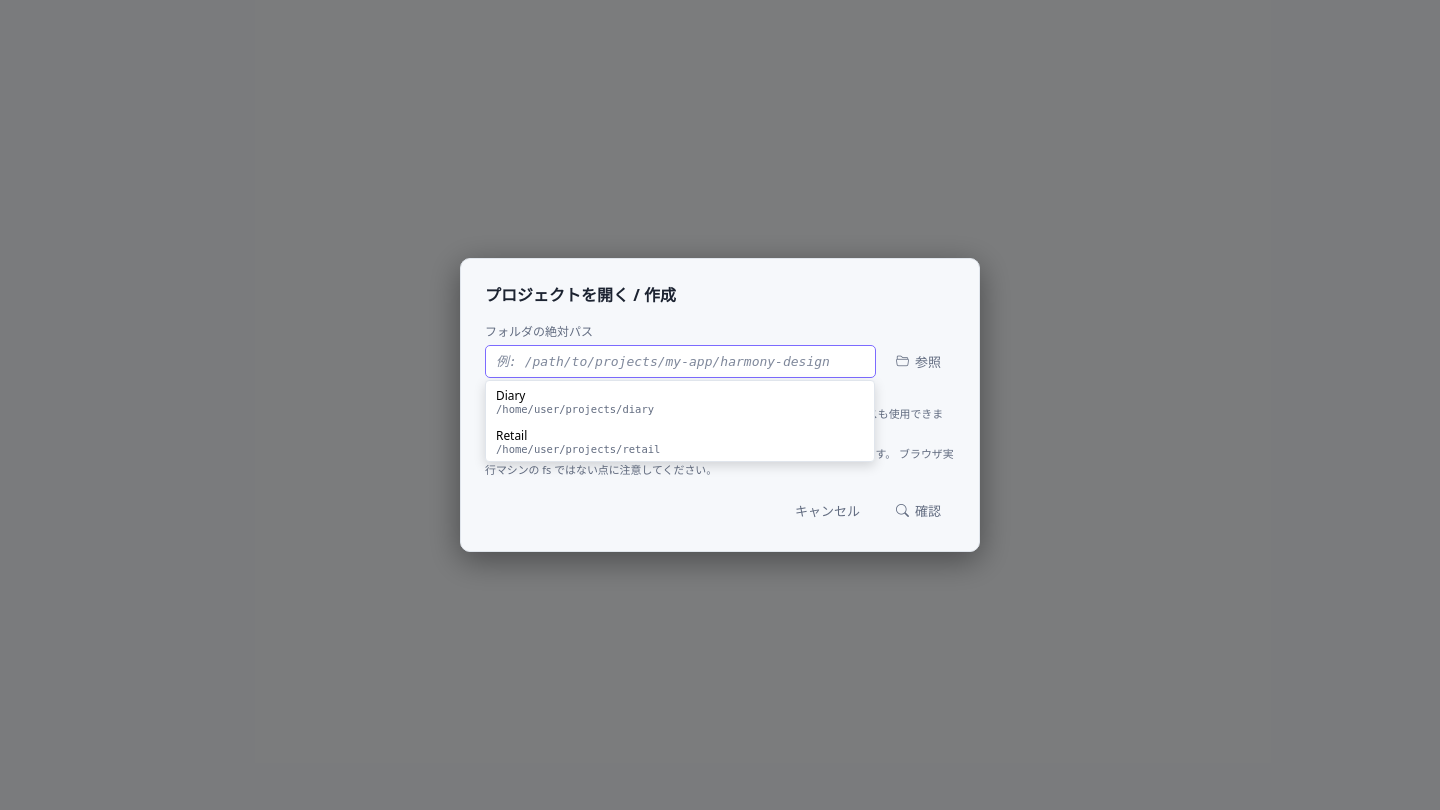
Test: AddWorkspaceDialog (#858) › 入力中の文字列で recent エントリを substring-match で絞り込む
The width and height of the screenshot is (1440, 810).
In the field with test id "workspace-path-input": (680, 361) [485,345,876,378], type "diary"
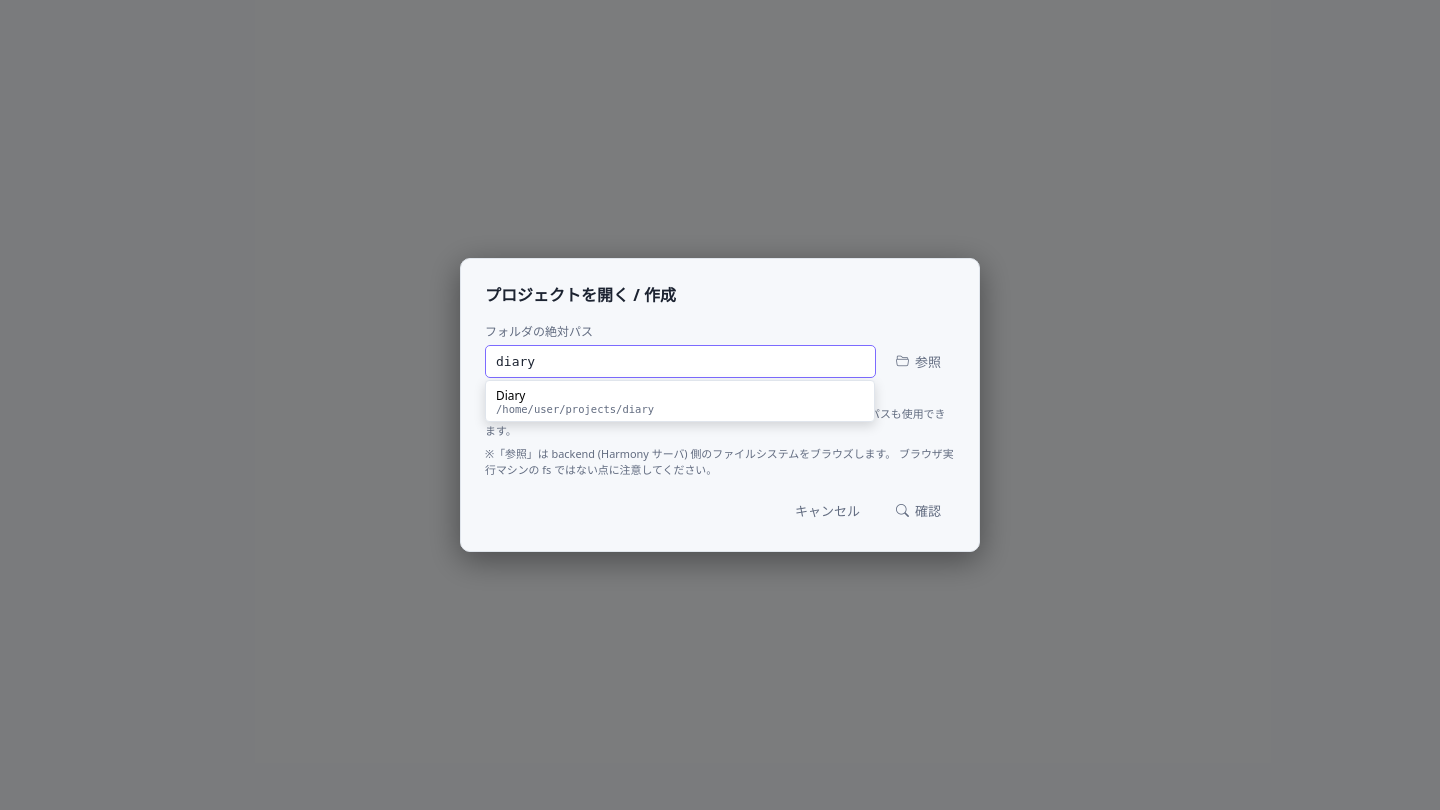
Expected: the text "Diary" is shown, [496,387,525,403]
Expected: the button "Retail" is gone
